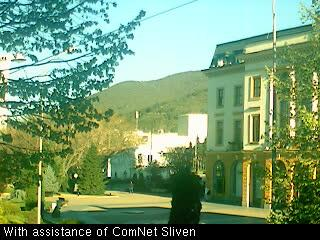person: (203, 185, 209, 202), (128, 181, 134, 195)
